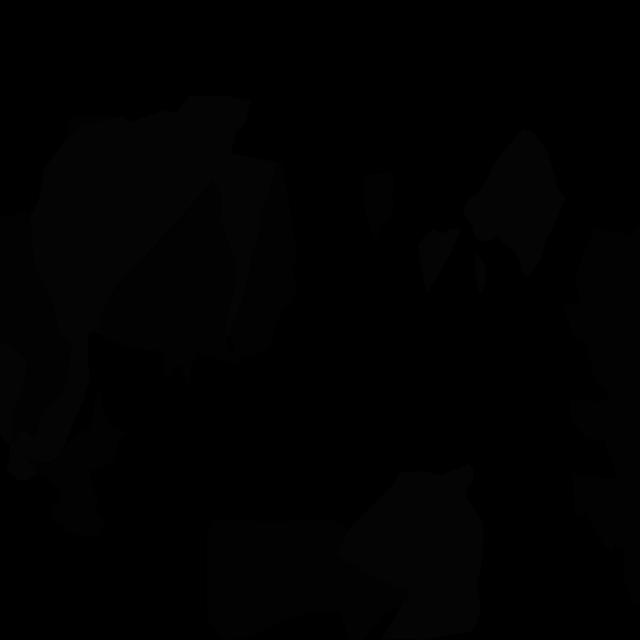cardboard: (100, 182, 234, 384), (207, 518, 409, 640), (563, 303, 640, 559), (4, 210, 71, 442), (28, 392, 128, 538), (229, 161, 297, 365), (574, 224, 640, 305), (0, 215, 38, 343), (364, 173, 395, 239), (66, 116, 121, 140), (622, 550, 640, 608)
soft_plastic: (6, 109, 188, 480), (338, 464, 484, 640), (174, 95, 278, 339), (463, 128, 566, 278), (0, 341, 28, 444), (418, 228, 461, 293), (475, 253, 486, 293)
